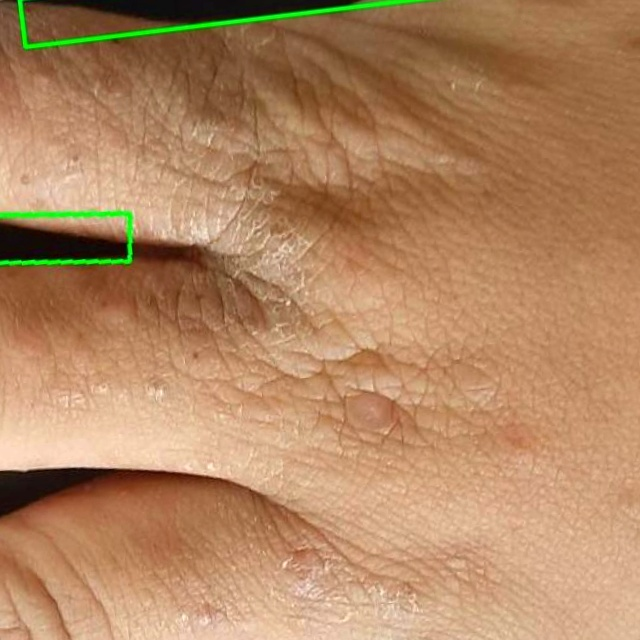Scabies: (0, 212, 130, 262)
